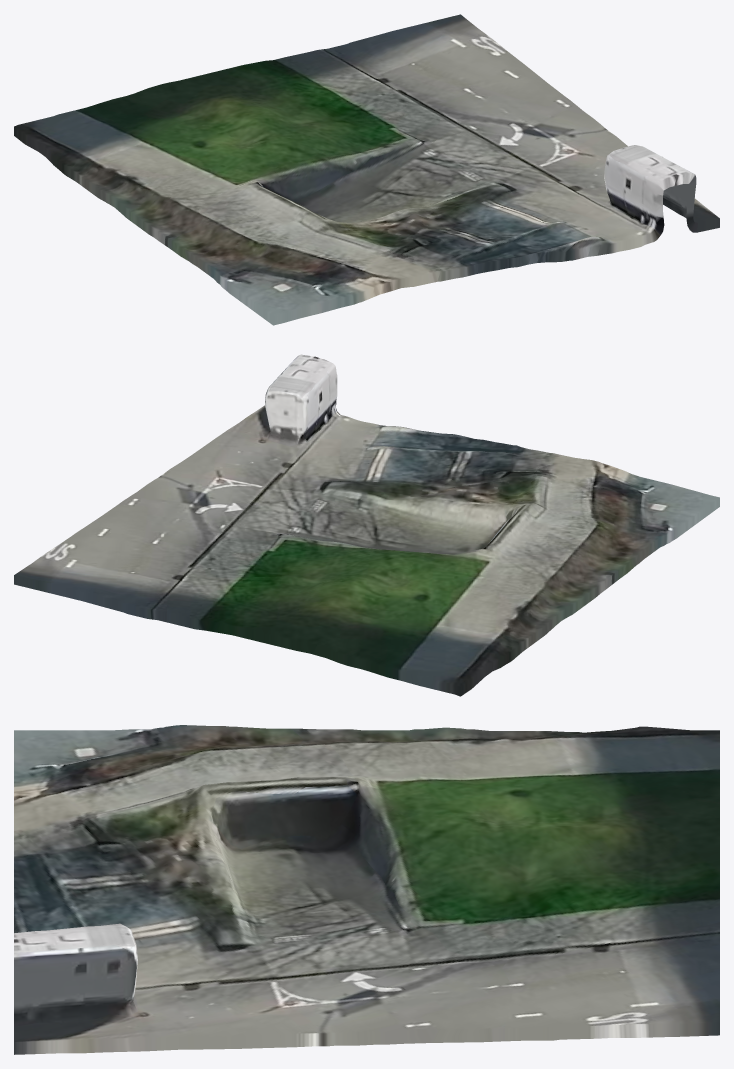
Rendered from z20-167749-405247-h0-yup-uvflip-v3-world.glb.
The picture shows the model from 3 angles, top to bottom: view 1: azimuth 30°, elevation 25°; view 2: azimuth 150°, elevation 25°; view 3: azimuth 270°, elevation 25°; orthographic projection. The views are drawn at different scales.
Bounding box in the file's own units: 30.16 × 4.04 × 30.32.
Materials: 1 (1 with a texture image).
